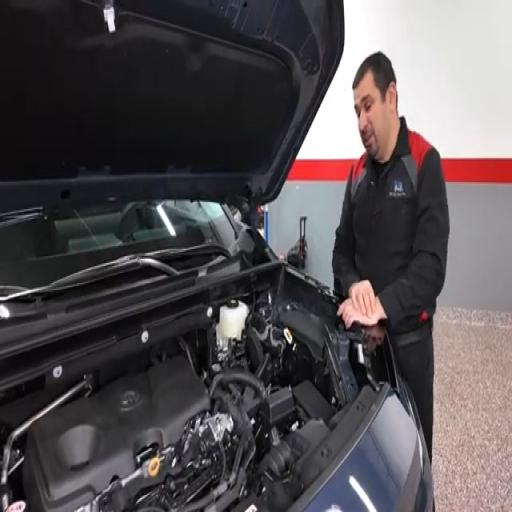bumper: (304, 392, 433, 511)
hood: (0, 0, 343, 211)
windshield: (0, 201, 235, 288)
